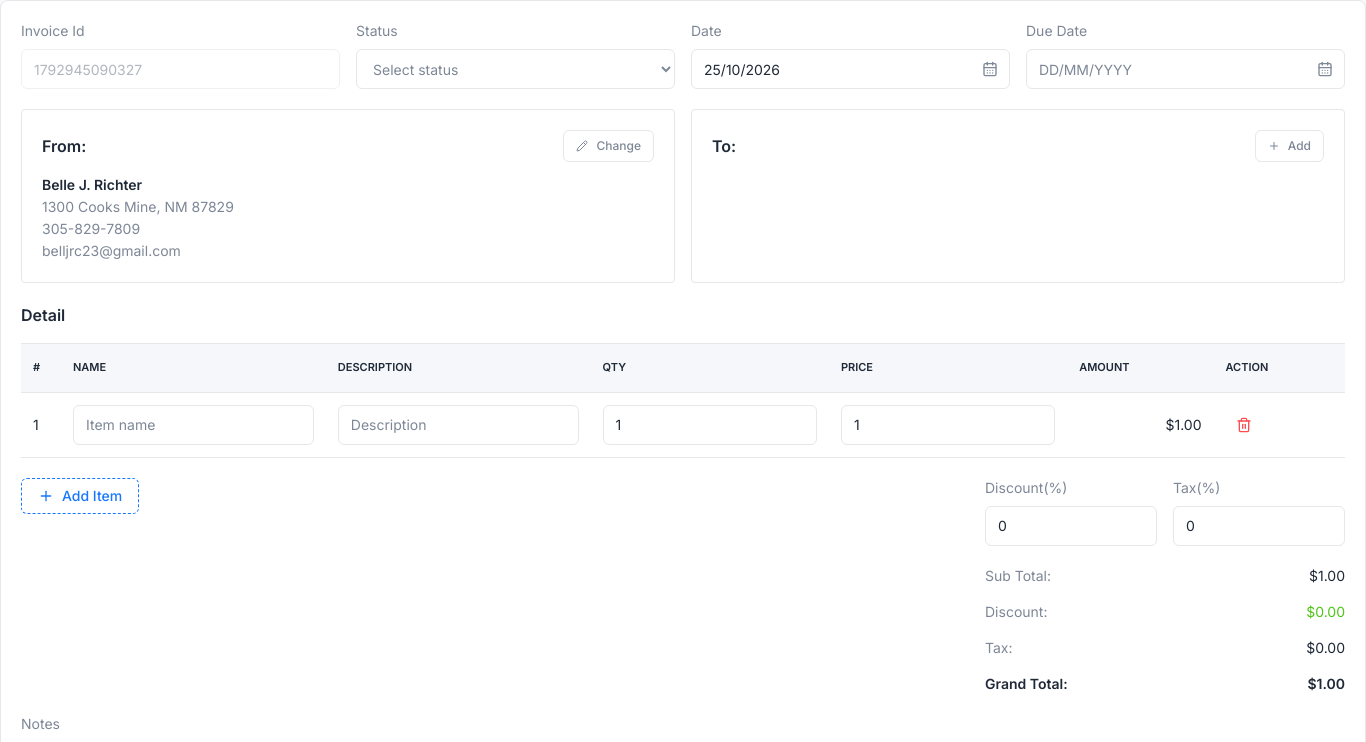
Create Invoice › searches and changes addresses without applying cancelled selections
Click the button with aria-label "Change sender address" at [609, 146], box [564,130,654,162]
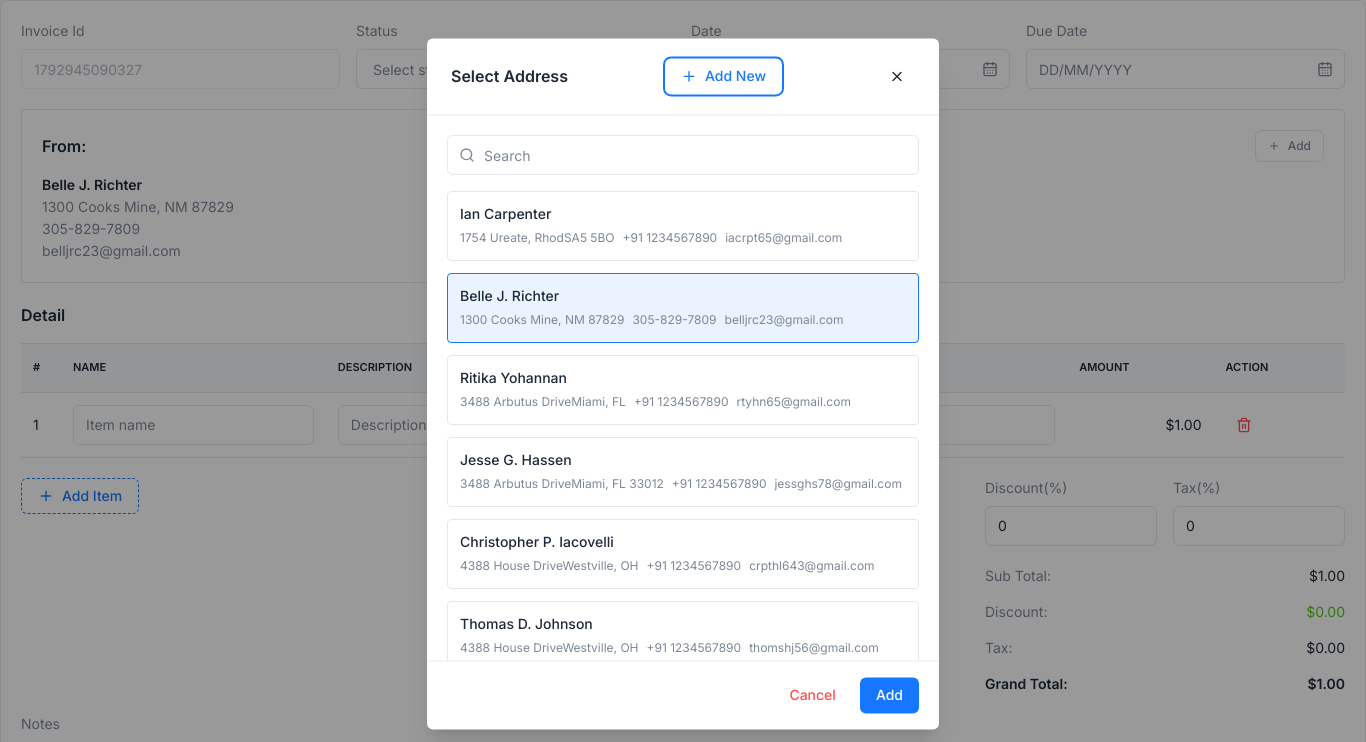
Type "Ritika" into the field named "Search addresses" at [683, 155], box [447,135,919,175]
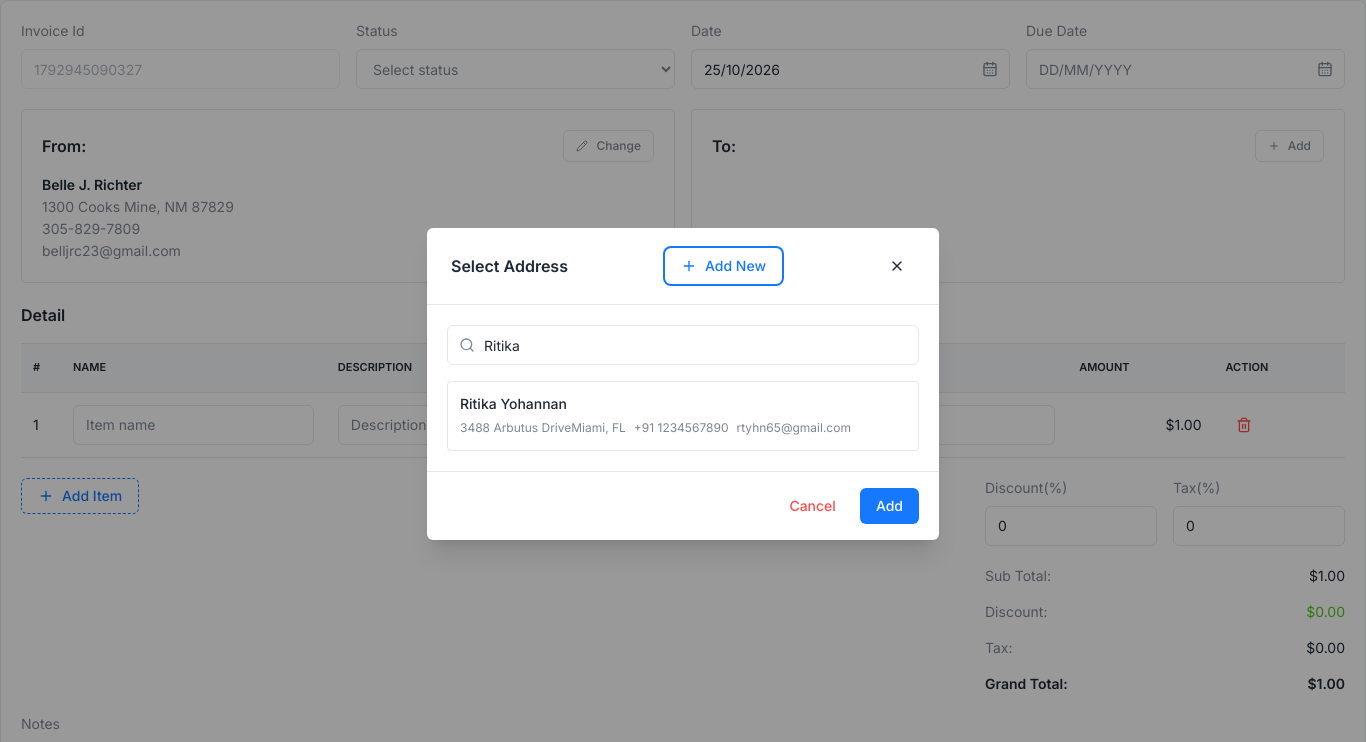
Now the button "Ian Carpenter" is gone
Click the button "Ritika Yohannan" at [513, 404], box [447,381,919,451]
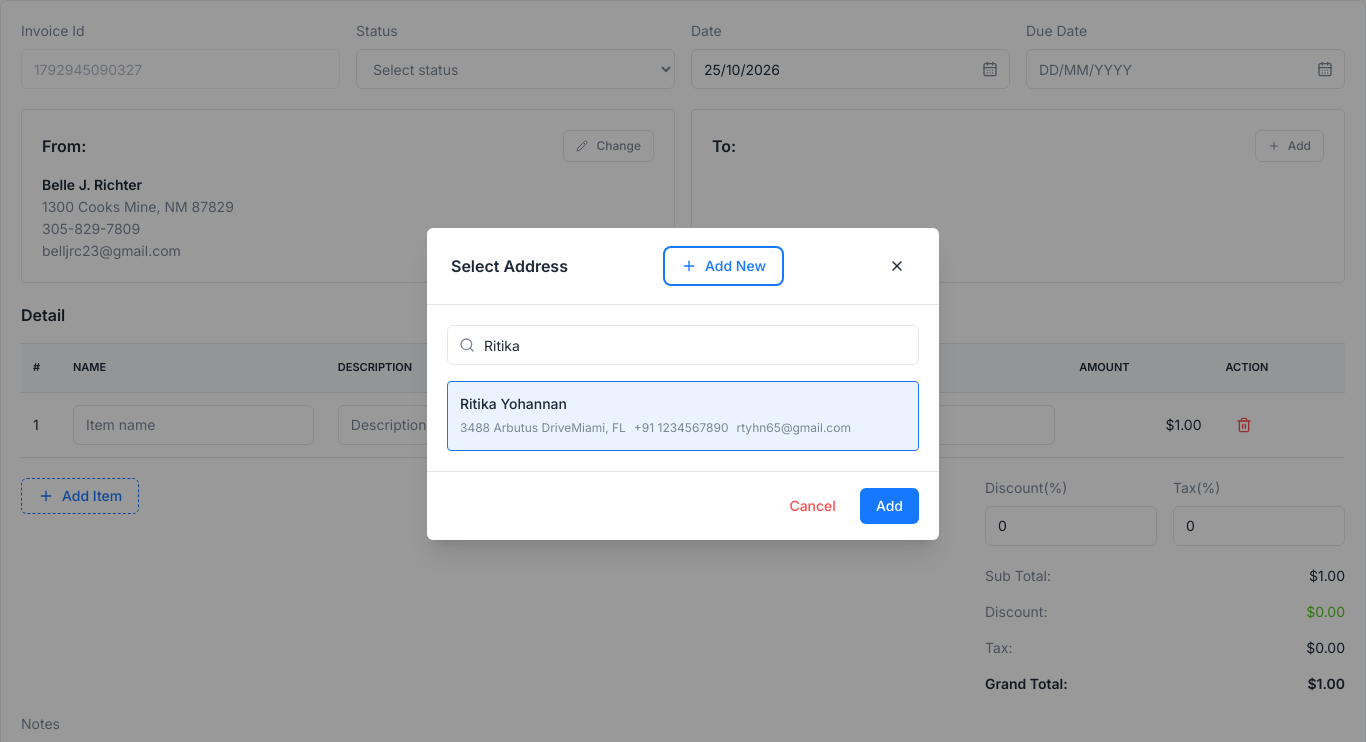
Click the button "Cancel" at [813, 506], box [773,488,852,524]
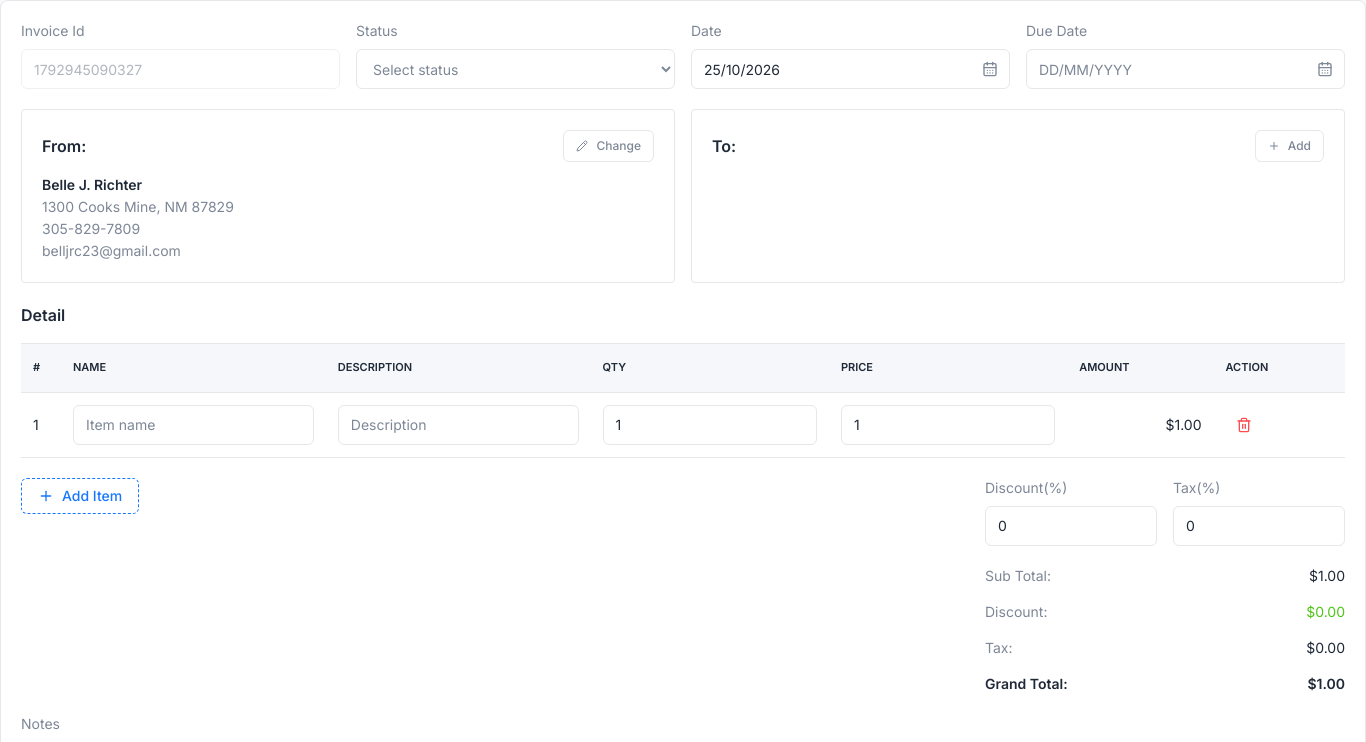
Expected: the text "Belle J. Richter" is shown, [42,176,142,193]
Now the button "Ritika Yohannan" is gone
